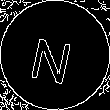N_N: (30, 26, 80, 84)
